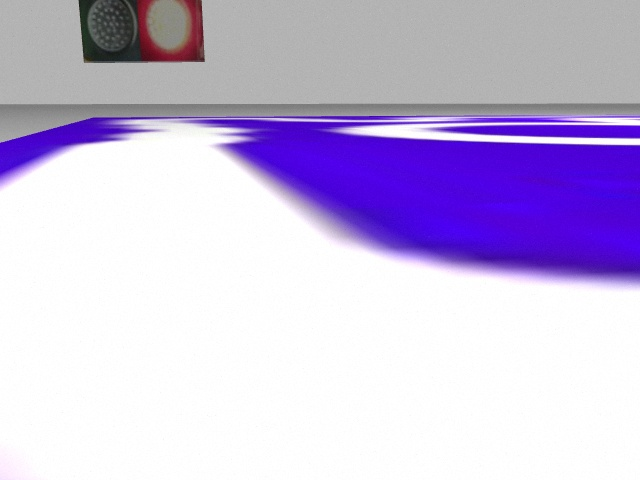red: (137, 2, 203, 61)
